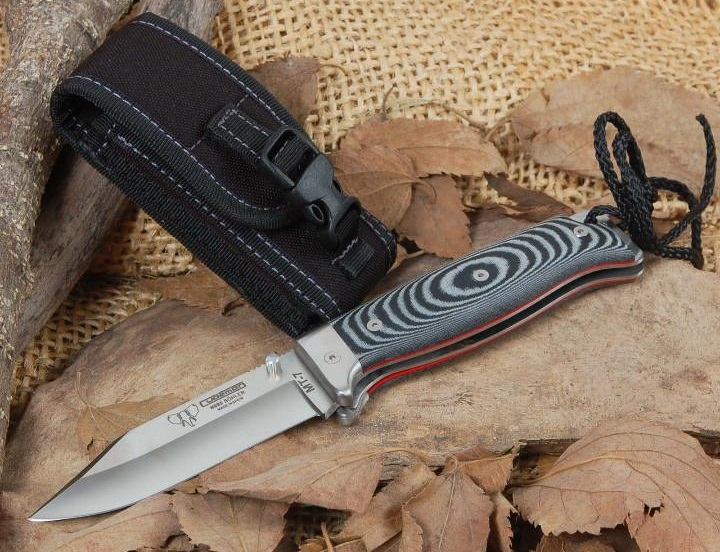knife: (21, 315, 382, 533)
